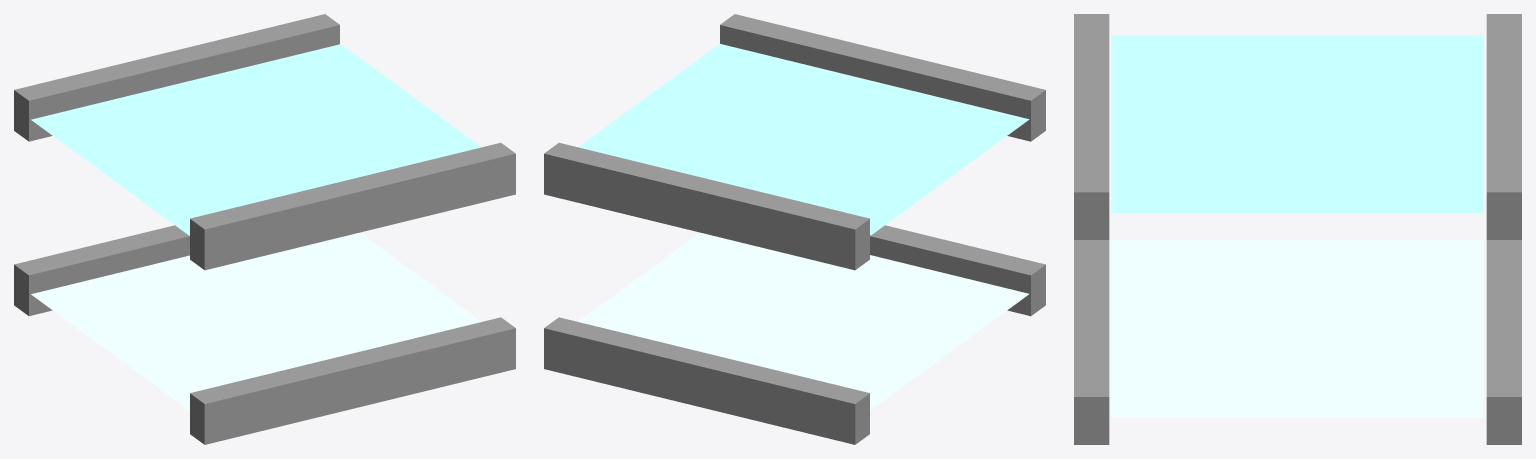
Rendered from ForceFields.fbx.
3 renders of one model, left to right at view 1: azimuth 30°, elevation 25°; view 2: azimuth 150°, elevation 25°; view 3: azimuth 270°, elevation 25°, orthographic. The views are drawn at different scales.
Visible parts, largest first — view 1: Forcefield, polySurface16, Platform2, polySurface17, Platform1, polySurface15; view 2: Forcefield, polySurface16, Platform1, polySurface15, Platform2, polySurface17; view 3: Forcefield, polySurface16, Platform1, Platform2, polySurface15, polySurface17.
Boxes of the visible parts, left/top/right/bottom form: Forcefield: left=31, top=44, right=481, bottom=235; polySurface16: left=31, top=232, right=481, bottom=410; Platform2: left=190, top=142, right=515, bottom=270; polySurface17: left=190, top=317, right=515, bottom=444; Platform1: left=14, top=14, right=339, bottom=141; polySurface15: left=14, top=225, right=189, bottom=316; Forcefield: left=578, top=43, right=1029, bottom=235; polySurface16: left=578, top=232, right=1028, bottom=409; Platform1: left=544, top=142, right=869, bottom=270; polySurface15: left=544, top=317, right=869, bottom=444; Platform2: left=720, top=14, right=1045, bottom=141; polySurface17: left=870, top=225, right=1045, bottom=316; Forcefield: left=1111, top=35, right=1483, bottom=212; polySurface16: left=1111, top=240, right=1483, bottom=417; Platform1: left=1486, top=14, right=1521, bottom=239; Platform2: left=1074, top=14, right=1109, bottom=239; polySurface15: left=1486, top=240, right=1521, bottom=444; polySurface17: left=1074, top=240, right=1109, bottom=444.
Bounding box in the file's own units: 5.37 × 3.55 × 5.7.
